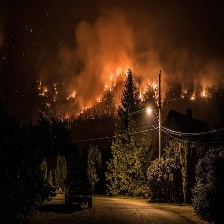fire: (177, 86, 214, 102), (40, 86, 77, 101), (140, 77, 163, 100), (103, 65, 120, 94)
smoke: (43, 8, 223, 83)
